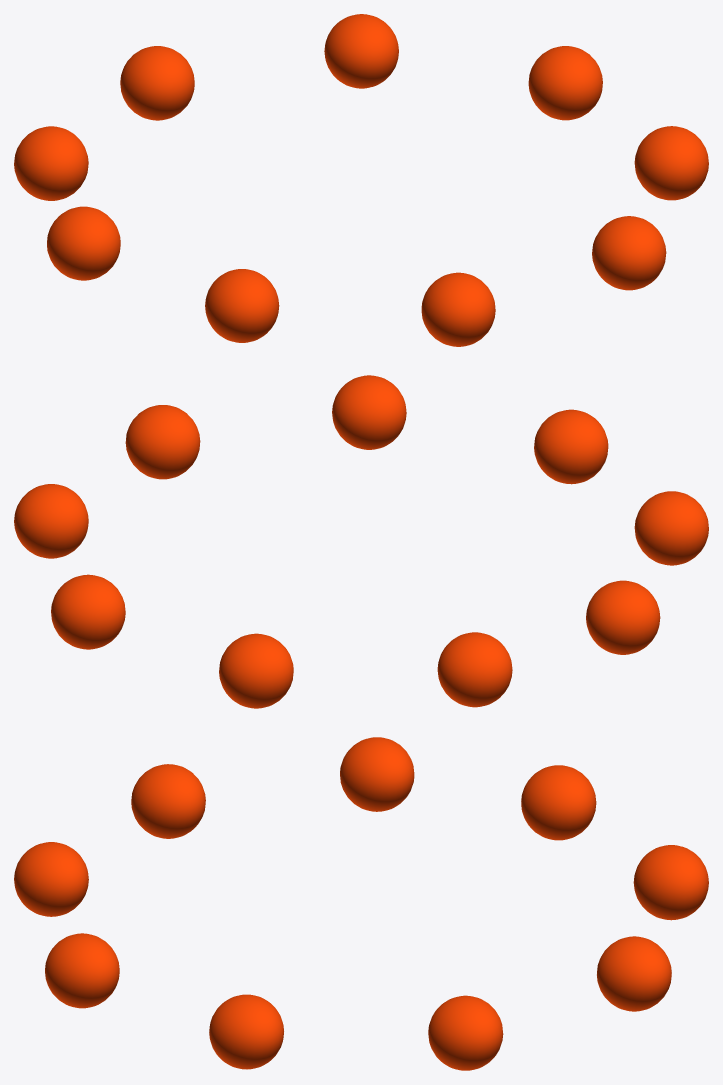
Rendered from Stage4.fbx.
The picture shows the model from 3 angles, top to bottom: view 1: azimuth 30°, elevation 25°; view 2: azimuth 150°, elevation 25°; view 3: azimuth 270°, elevation 25°; orthographic projection.
Parts seen in each view (by area): view 1: Stage4; view 2: Stage4; view 3: Stage4.
Boxes of the visible parts, x1=… form: Stage4: x1=14, y1=14, x2=708, y2=346; Stage4: x1=14, y1=375, x2=708, y2=708; Stage4: x1=14, y1=737, x2=708, y2=1070.
Bounding box in the file's own units: 127 × 13.91 × 128.
